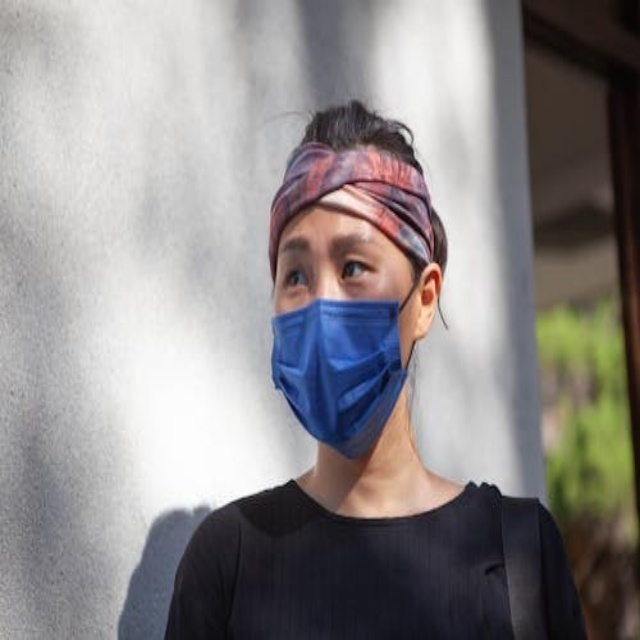Mascara: (272, 282, 419, 457)
Sin_gafas: (275, 233, 381, 302)
